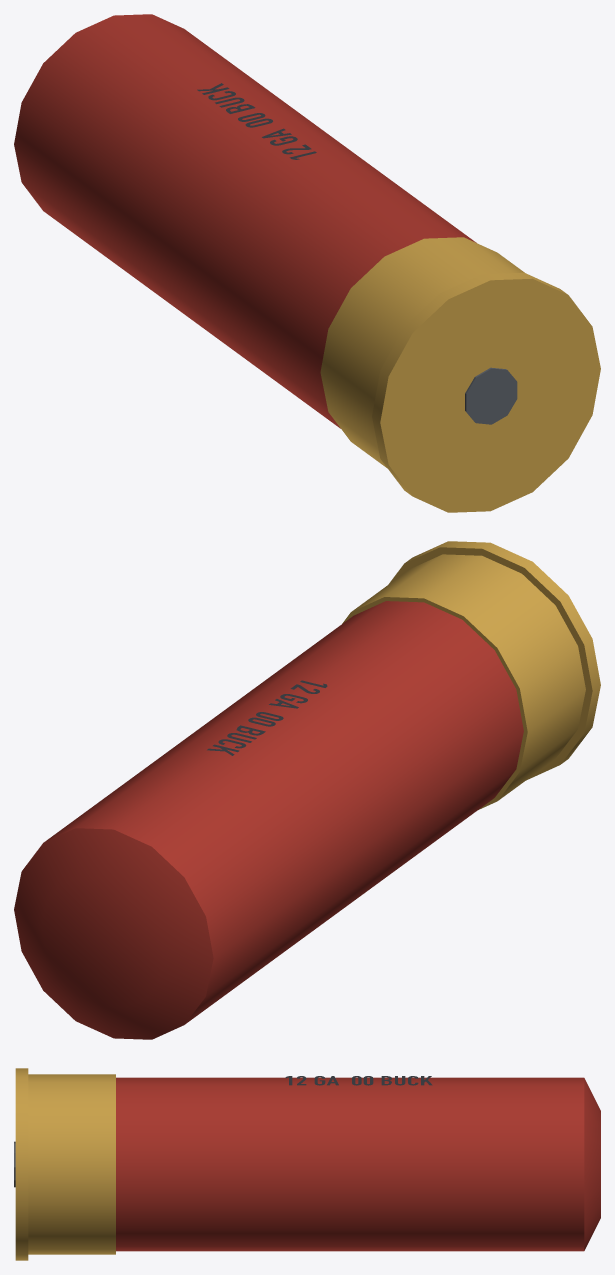
The model's file is us_shell_12ga.glb.
3 renders of one model, top to bottom at view 1: azimuth 30°, elevation 25°; view 2: azimuth 150°, elevation 25°; view 3: azimuth 270°, elevation 25°, orthographic. The views are drawn at different scales.
Parts seen in each view (by area): view 1: body, body_fine; view 2: body, body_fine; view 3: body, body_fine.
Boxes of the visible parts, <box> form: body: <box>14,14,600,512</box>; body_fine: <box>197,83,517,424</box>; body: <box>14,541,600,1039</box>; body_fine: <box>207,680,327,755</box>; body: <box>15,1068,600,1260</box>; body_fine: <box>14,1076,432,1187</box>.
Bounding box in the file's own units: 0.023 × 0.023 × 0.0702.
